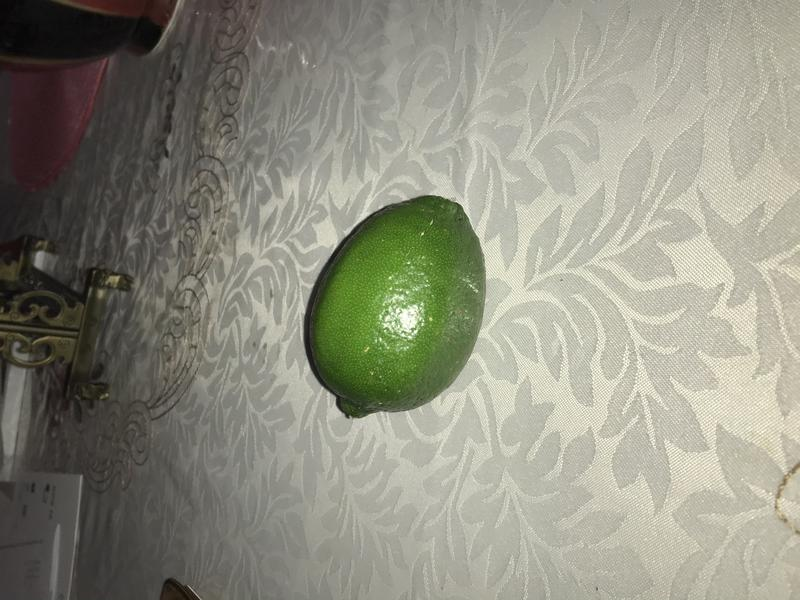lime: (296, 186, 494, 430)
